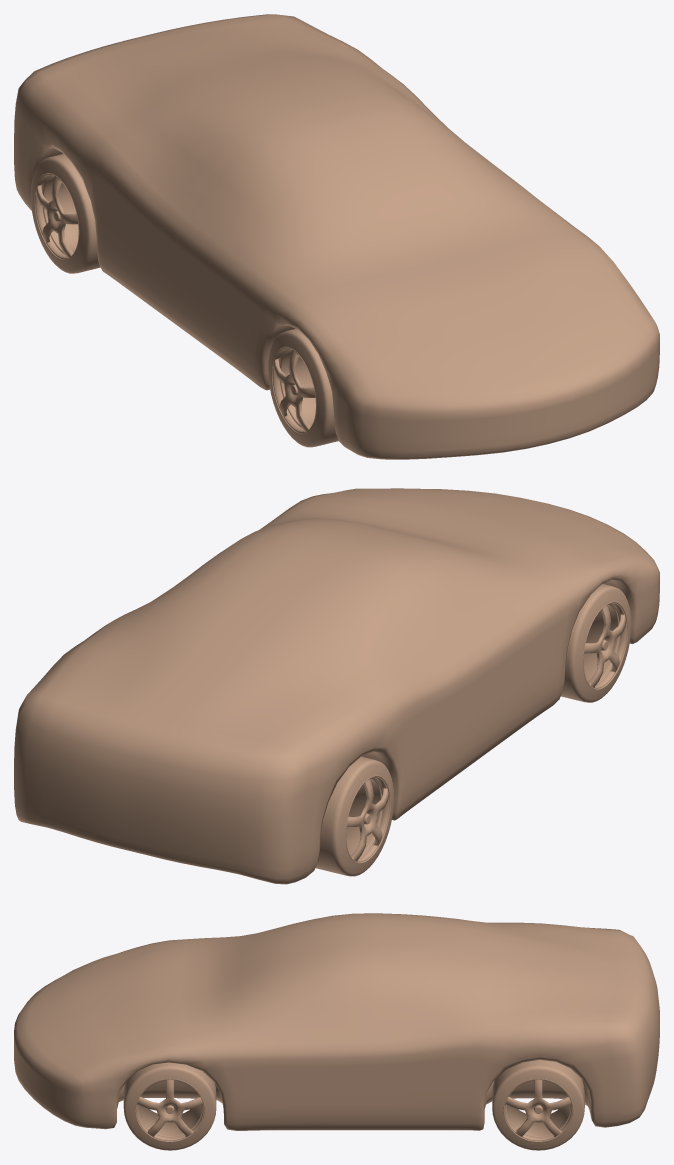
The model's file is Cartest3.dae.
The picture shows the model from 3 angles, top to bottom: view 1: azimuth 30°, elevation 25°; view 2: azimuth 150°, elevation 25°; view 3: azimuth 270°, elevation 25°; orthographic projection. The views are drawn at different scales.
Parts seen in each view (by area): view 1: carBody, wheels; view 2: carBody, wheels; view 3: carBody, wheels.
Boxes of the visible parts, left/top/right/bottom form: carBody: left=14, top=14, right=659, bottom=459; wheels: left=30, top=154, right=338, bottom=447; carBody: left=14, top=488, right=659, bottom=884; wheels: left=315, top=584, right=631, bottom=876; carBody: left=14, top=913, right=659, bottom=1130; wheels: left=123, top=1059, right=584, bottom=1150.
Size of the model in its own units: 202 by 123 by 457.
